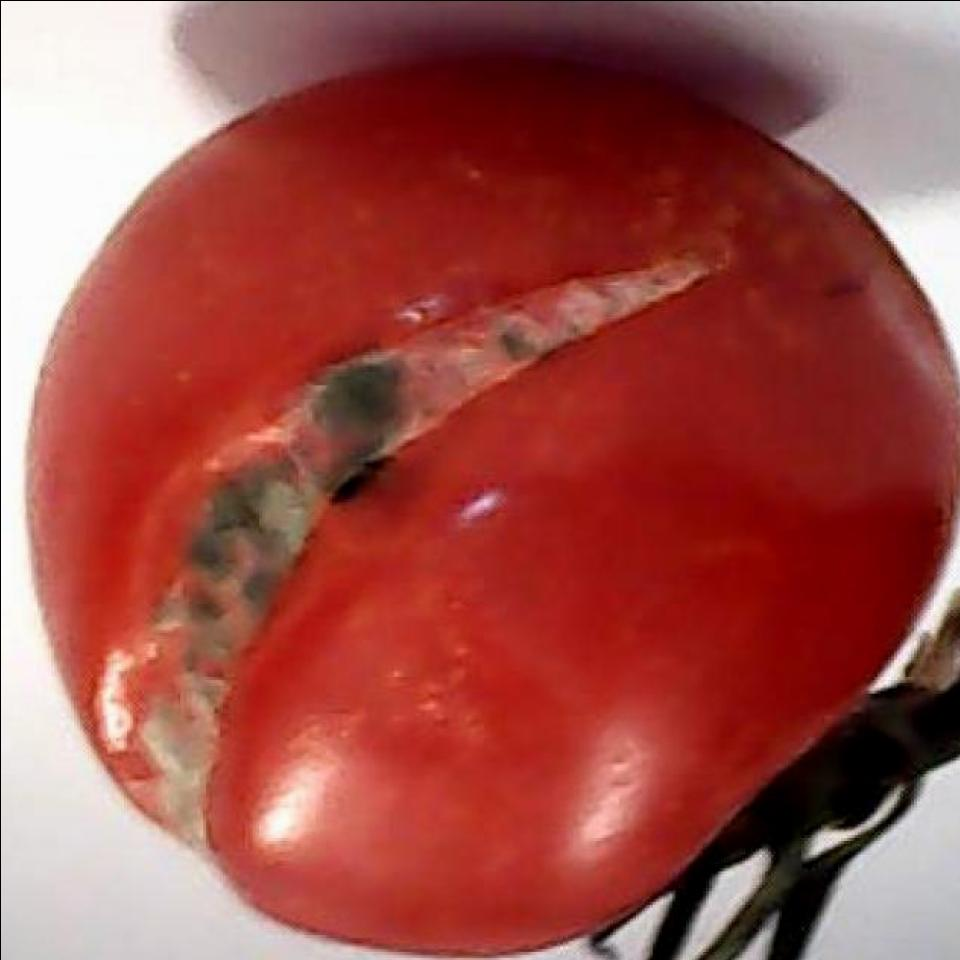Cracking: (108, 128, 727, 910)
